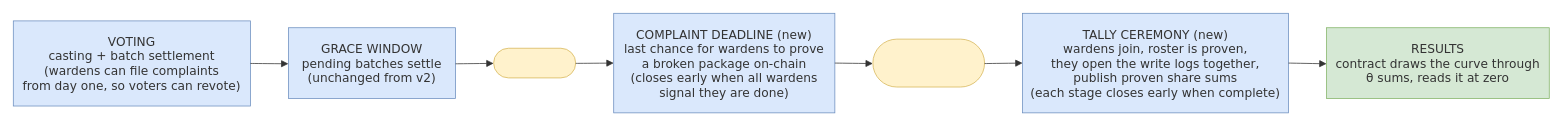
Some shapes in this 1563 by 126 pixel diagram are drawn without their labels. Here are the shapes that lost their labels. From the top down, the box of each, then its label:
(493, 48, 576, 78): state frozen
(872, 38, 985, 87): exclusion list X frozen on-chain
